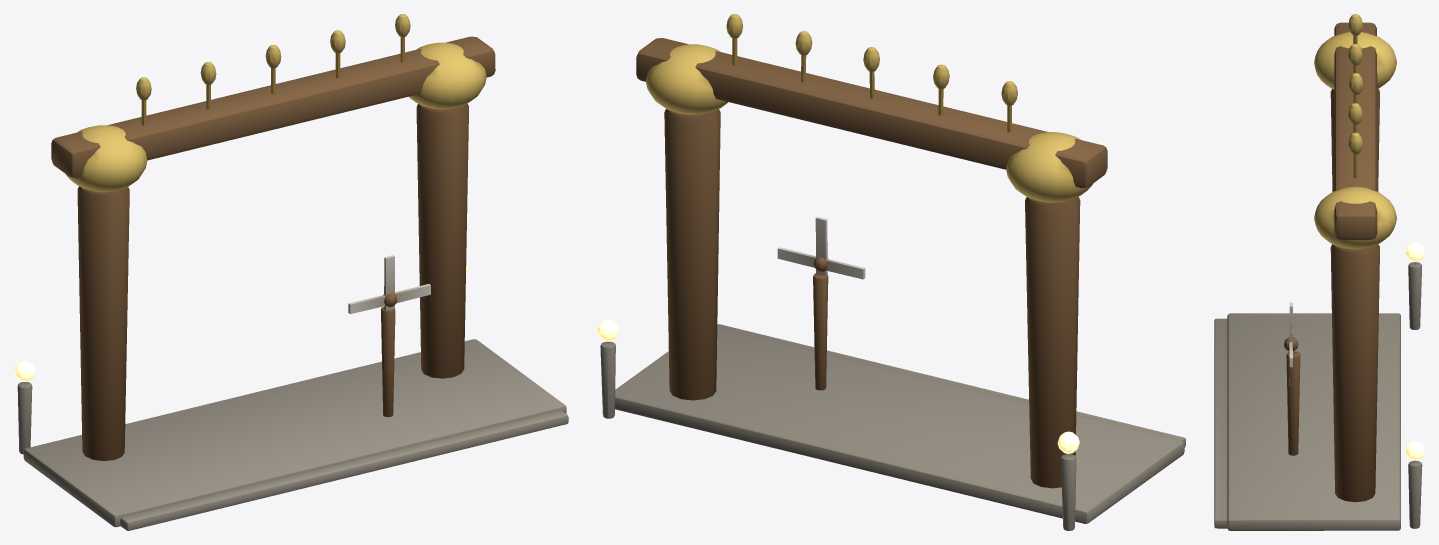
3 renders of one model, left to right at view 1: azimuth 30°, elevation 25°; view 2: azimuth 150°, elevation 25°; view 3: azimuth 270°, elevation 25°, orthographic. The views are drawn at different scales.
Visible parts, largest first — view 1: gate_a7b00672; view 2: gate_a7b00672; view 3: gate_a7b00672.
Boxes of the visible parts, box(x1,y1,x2,y2) form: gate_a7b00672: box(14, 14, 568, 530); gate_a7b00672: box(597, 14, 1185, 530); gate_a7b00672: box(1214, 14, 1424, 530).
Size of the model in its own units: 5.96 by 4.76 by 2.55.
